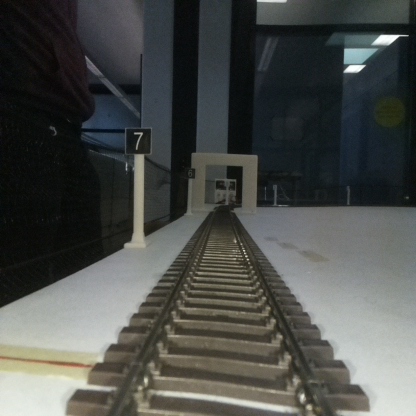black-info-6: (184, 167, 195, 215)
black-info-7: (125, 127, 150, 245)
